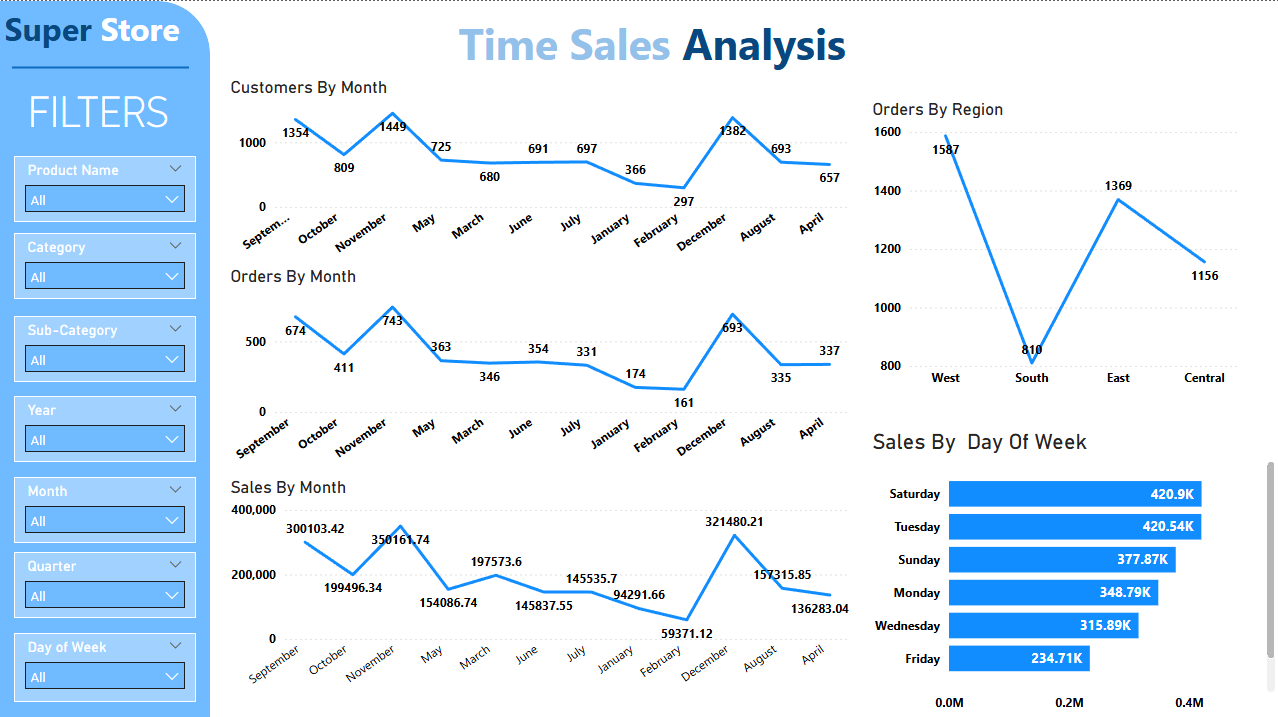

What the dashboard file says about the page in this screenshot:
{"tool":"powerbi","page":{"name":"Time","canvas":[1280,720],"ordinal":4},"visuals":[{"type":"shape","box":[0,0,210,720],"z":0},{"type":"textbox","box":[454,8,532,90],"z":2000},{"type":"clusteredBarChart","title":"Sales By  Day Of Week","fields":{"Category":["DimDate.Day of Week"],"Y":["FactTable.TotalSales"]},"box":[868,428,412,292],"z":4000},{"type":"lineChart","title":"Orders By Month","fields":{"Y":["FactTable.TotalOrders"],"Category":["DimDate.Month"]},"box":[226,265,628,211],"z":7000},{"type":"slicer","fields":{"Values":["DimProduct.Category"]},"box":[14,232,182,66],"z":10000},{"type":"slicer","fields":{"Values":["DimDate.Month"]},"box":[14,476,182,66],"z":11000},{"type":"slicer","fields":{"Values":["DimDate.Quarter"]},"box":[14,551,182,66],"z":12000},{"type":"slicer","fields":{"Values":["DimDate.Day of Week"]},"box":[14,632,182,69],"z":13000},{"type":"slicer","fields":{"Values":["DimProduct.Product Name"]},"box":[14,155,182,66],"z":14000},{"type":"slicer","fields":{"Values":["DimProduct.Sub-Category"]},"box":[14,315,182,66],"z":15000},{"type":"slicer","fields":{"Values":["DimDate.Year"]},"box":[14,395,182,66],"z":16000},{"type":"shape","box":[12,44,177,45],"z":17000},{"type":"textbox","box":[12,81,177,60],"z":18000},{"type":"textbox","box":[0,0,226,67],"z":18001},{"type":"lineChart","title":"Sales By Month","fields":{"Y":["Sum(FactTable.Sales)"],"Category":["DimDate.Month"]},"box":[226,476,628,230],"z":18002},{"type":"lineChart","title":"Customers By Month","fields":{"Y":["FactTable.TotalCustomers"],"Category":["DimDate.Month"]},"box":[226,76,628,189],"z":18003},{"type":"lineChart","title":"Orders By Region","fields":{"Y":["FactTable.TotalOrders"],"Category":["DimAddress.Region"]},"box":[868,98,376,297],"z":18004}]}

Visuals, with their boxes in screenshot pixels (x1, y1, x2, y2), scaled from the page's 1280x720 canvas onto the 1278x717 screenshot:
shape: pyautogui.locateOnScreen(0, 0, 210, 716)
textbox: pyautogui.locateOnScreen(453, 8, 984, 98)
"Sales By  Day Of Week" clusteredBarChart: pyautogui.locateOnScreen(867, 426, 1277, 716)
"Orders By Month" lineChart: pyautogui.locateOnScreen(226, 264, 853, 474)
slicer - DimProduct.Category: pyautogui.locateOnScreen(14, 231, 196, 297)
slicer - DimDate.Month: pyautogui.locateOnScreen(14, 474, 196, 540)
slicer - DimDate.Quarter: pyautogui.locateOnScreen(14, 549, 196, 614)
slicer - DimDate.Day of Week: pyautogui.locateOnScreen(14, 629, 196, 698)
slicer - DimProduct.Product Name: pyautogui.locateOnScreen(14, 154, 196, 220)
slicer - DimProduct.Sub-Category: pyautogui.locateOnScreen(14, 314, 196, 379)
slicer - DimDate.Year: pyautogui.locateOnScreen(14, 393, 196, 459)
shape: pyautogui.locateOnScreen(12, 44, 189, 89)
textbox: pyautogui.locateOnScreen(12, 81, 189, 140)
textbox: pyautogui.locateOnScreen(0, 0, 226, 67)
"Sales By Month" lineChart: pyautogui.locateOnScreen(226, 474, 853, 703)
"Customers By Month" lineChart: pyautogui.locateOnScreen(226, 76, 853, 264)
"Orders By Region" lineChart: pyautogui.locateOnScreen(867, 98, 1242, 393)
